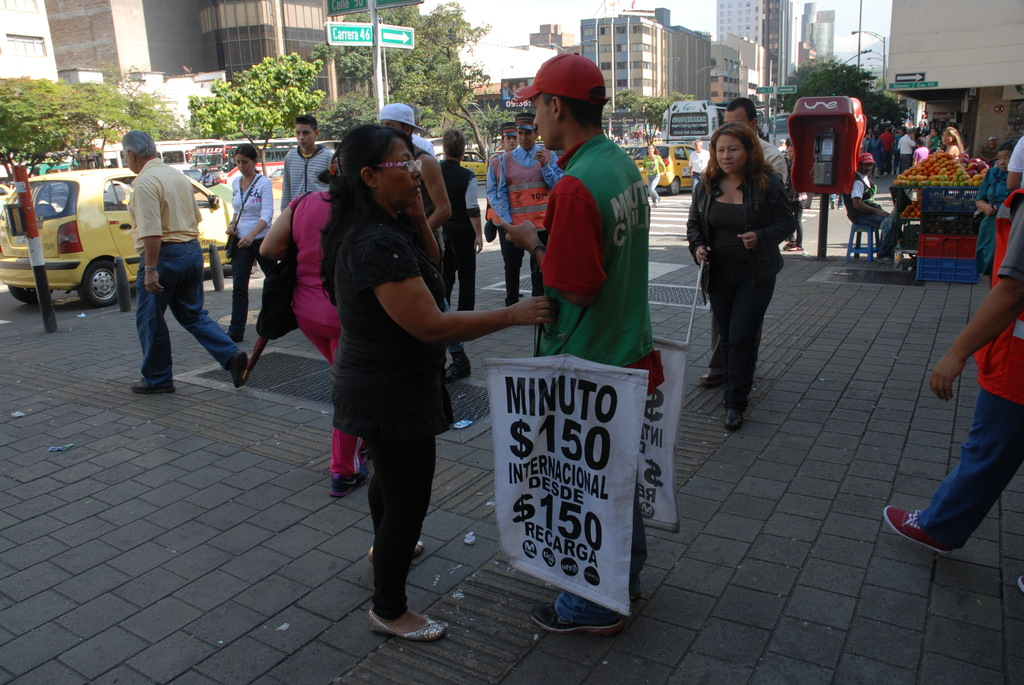Footwear: (885, 505, 955, 555), (531, 602, 619, 638), (363, 606, 447, 638), (131, 377, 174, 398), (227, 350, 248, 388), (328, 473, 358, 497), (442, 366, 473, 382), (703, 370, 728, 388), (728, 405, 742, 428)
